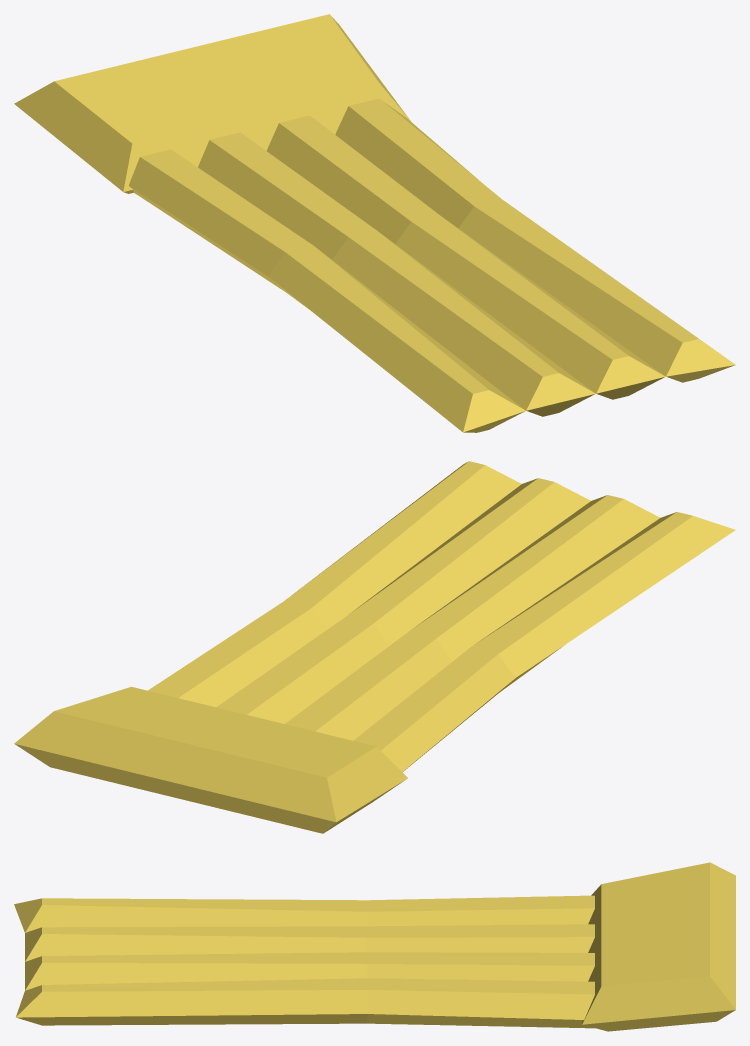
Rendered from SwimmingMattress_C.fbx.
The picture shows the model from 3 angles, top to bottom: view 1: azimuth 30°, elevation 25°; view 2: azimuth 150°, elevation 25°; view 3: azimuth 270°, elevation 25°; orthographic projection. The views are drawn at different scales.
Visible parts, largest first — view 1: SwimmingMattress_C; view 2: SwimmingMattress_C; view 3: SwimmingMattress_C.
Boxes of the visible parts, box(x1,y1,x2,y2) form: SwimmingMattress_C: box(14, 14, 735, 432); SwimmingMattress_C: box(14, 461, 735, 833); SwimmingMattress_C: box(14, 862, 735, 1031).
Size of the model in its own units: 93.04 by 19.71 by 211.
